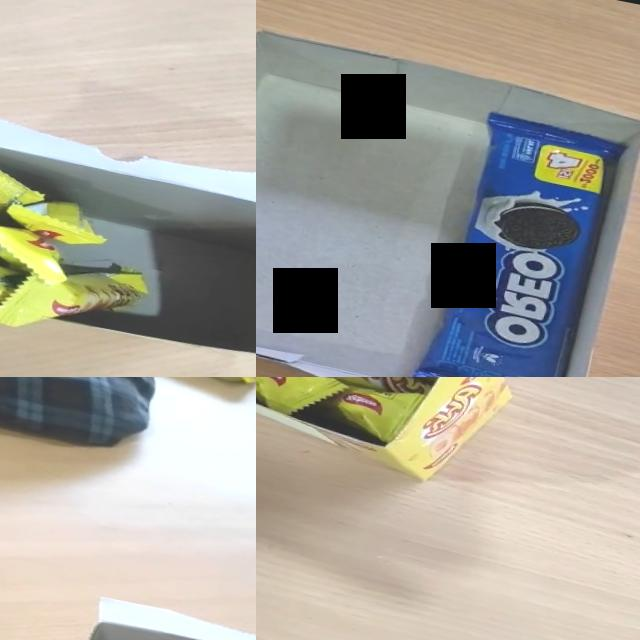Ahh: (0, 243, 154, 350), (1, 190, 113, 252), (0, 222, 73, 286), (335, 389, 422, 442), (0, 153, 51, 223), (256, 377, 344, 415), (0, 240, 26, 308)
Oreo: (409, 106, 629, 377)
